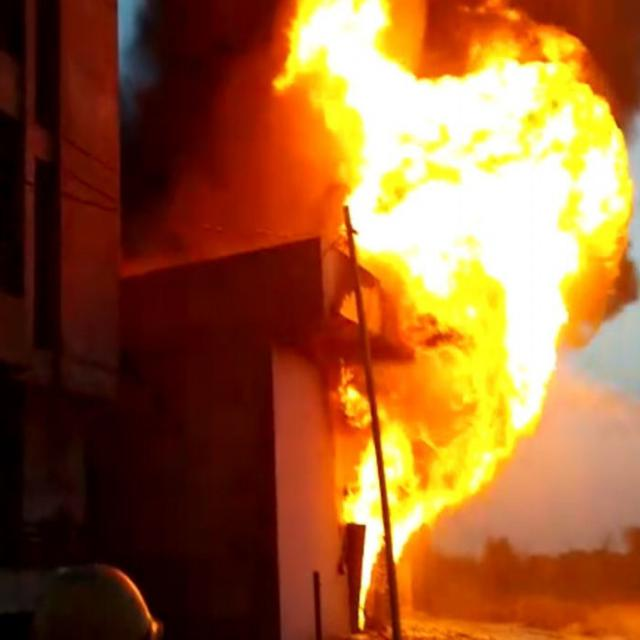fire: (268, 2, 639, 630)
